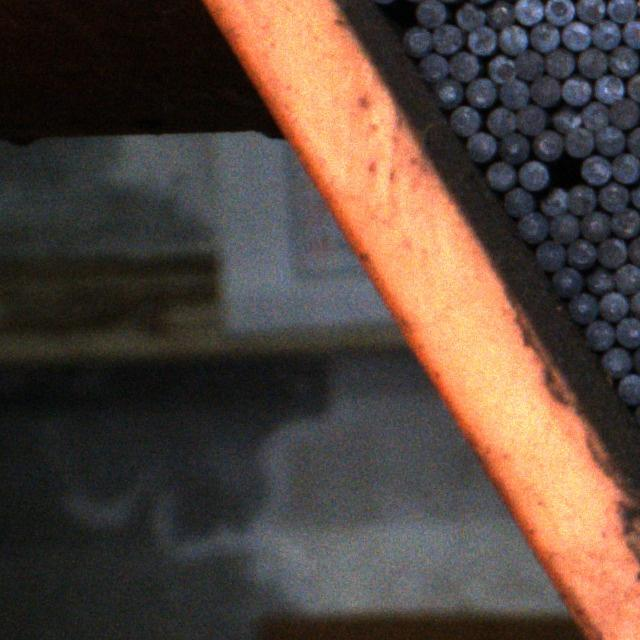tool: (574, 256, 626, 300), (578, 153, 612, 186), (596, 290, 629, 323), (578, 209, 610, 242), (516, 104, 547, 138), (448, 104, 480, 136), (594, 125, 626, 157), (599, 344, 630, 377), (582, 319, 613, 352), (464, 130, 497, 161), (432, 22, 463, 54), (465, 24, 496, 56), (596, 181, 628, 212), (576, 47, 608, 78), (485, 104, 515, 137), (446, 50, 479, 80), (534, 239, 565, 270), (530, 75, 561, 106), (590, 20, 621, 51), (567, 291, 597, 323), (518, 210, 548, 242), (533, 129, 565, 159), (560, 75, 592, 105), (592, 74, 625, 103), (542, 47, 576, 75), (566, 238, 596, 269), (550, 101, 580, 132), (499, 79, 529, 110), (432, 77, 463, 107), (401, 26, 432, 56), (580, 100, 610, 131), (609, 98, 640, 128), (608, 45, 638, 76), (550, 266, 582, 295), (564, 127, 594, 157), (454, 0, 484, 30), (610, 208, 640, 238), (465, 78, 496, 107), (598, 237, 627, 268), (539, 183, 567, 215), (517, 160, 549, 188), (612, 152, 640, 184), (484, 0, 514, 29), (414, 0, 445, 28), (487, 53, 516, 82), (514, 49, 543, 78), (560, 20, 589, 49), (504, 187, 534, 215), (498, 133, 528, 161), (498, 24, 528, 52), (568, 183, 595, 214), (549, 213, 578, 241), (530, 21, 559, 49), (486, 160, 514, 188), (419, 51, 447, 79), (614, 316, 640, 346), (574, 0, 605, 24), (512, 0, 544, 23), (614, 264, 640, 292), (616, 374, 640, 404), (604, 0, 636, 22), (544, 0, 573, 23), (620, 18, 640, 50), (624, 72, 640, 105), (626, 126, 640, 158)
void: (539, 147, 592, 198), (379, 0, 412, 29)
